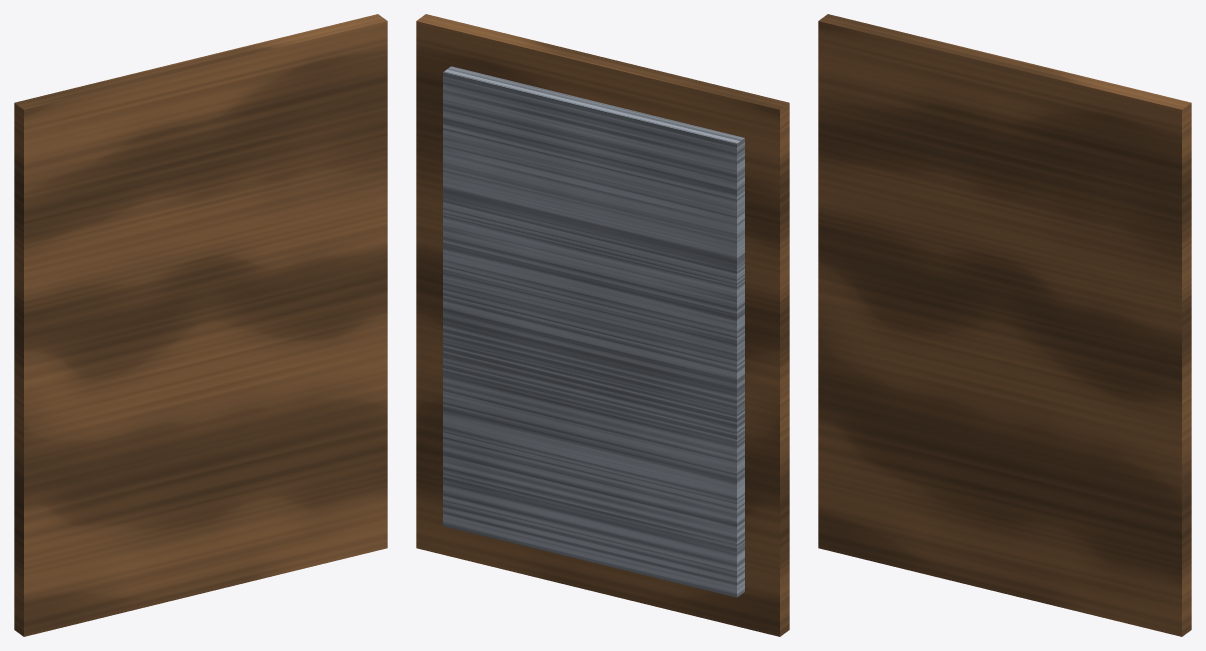
The model's file is wall_mirror.fbx.
3 views of the same model, side by side, from view 1: azimuth 30°, elevation 25°; view 2: azimuth 150°, elevation 25°; view 3: azimuth 330°, elevation 25° (orthographic).
Visible parts, largest first — view 1: wall_mirror; view 2: wall_mirror; view 3: wall_mirror.
Boxes of the visible parts, left/top/right/bottom form: wall_mirror: left=14, top=14, right=387, bottom=636; wall_mirror: left=416, top=14, right=789, bottom=636; wall_mirror: left=818, top=14, right=1191, bottom=636.
Bounding box in the file's own units: 52 × 72 × 4.4.
